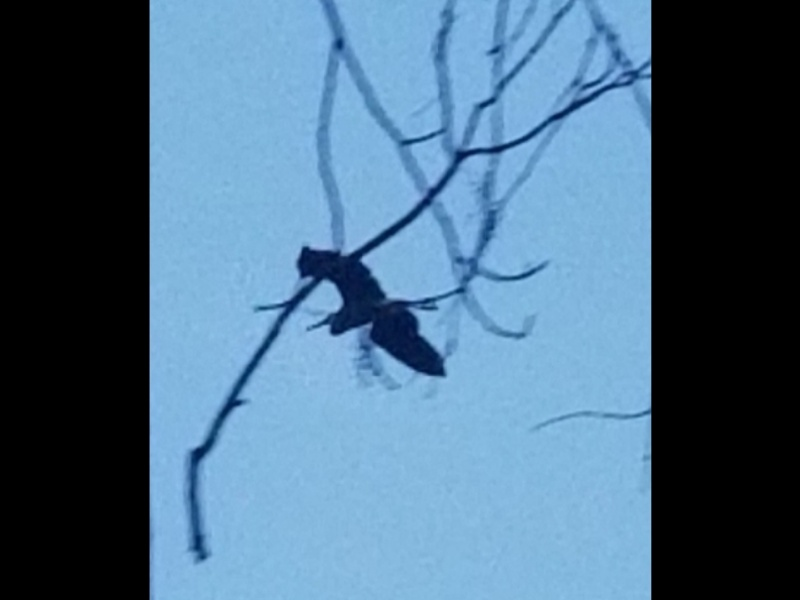heron: (293, 241, 447, 378)
